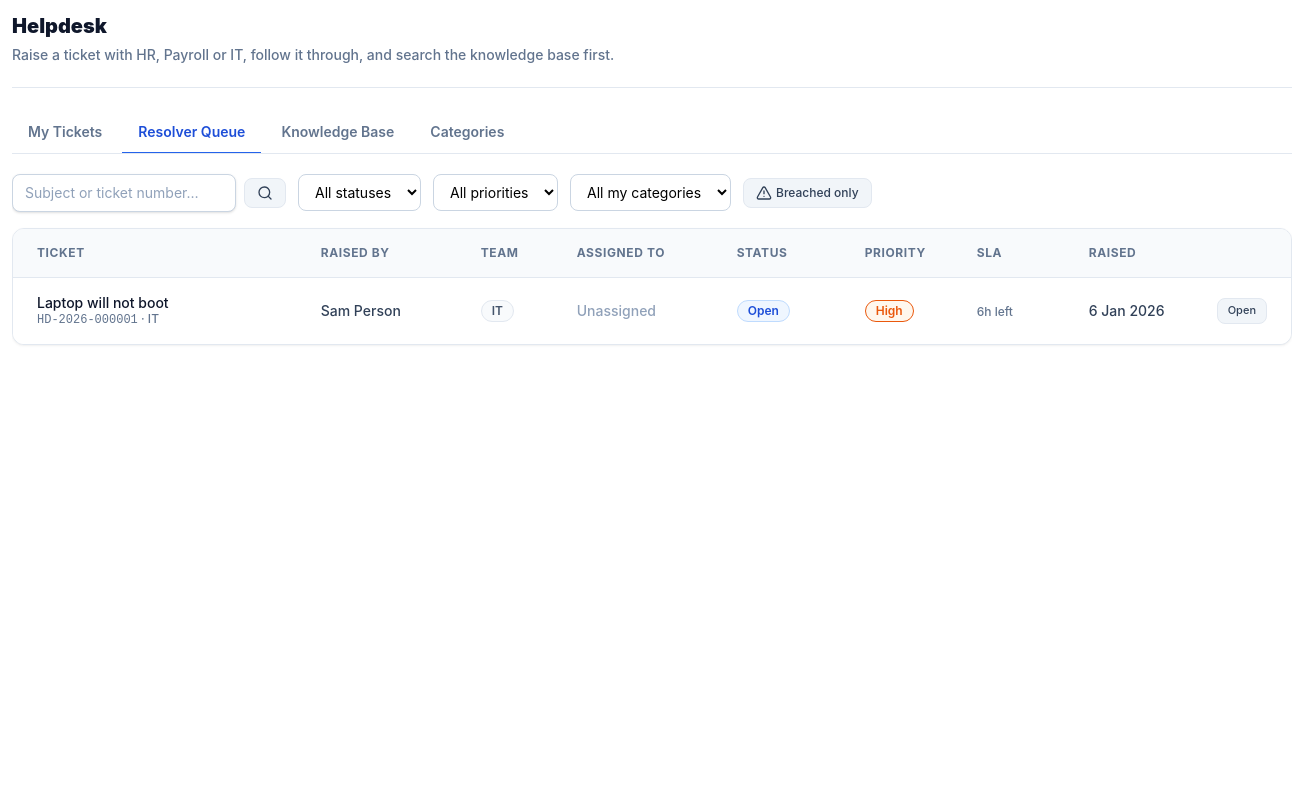
Scenario: the ticket detail › a requester sees no resolver actions
Click the button "Open" at x=1242, y=311, box x1=1217 y1=298 x2=1267 y2=324
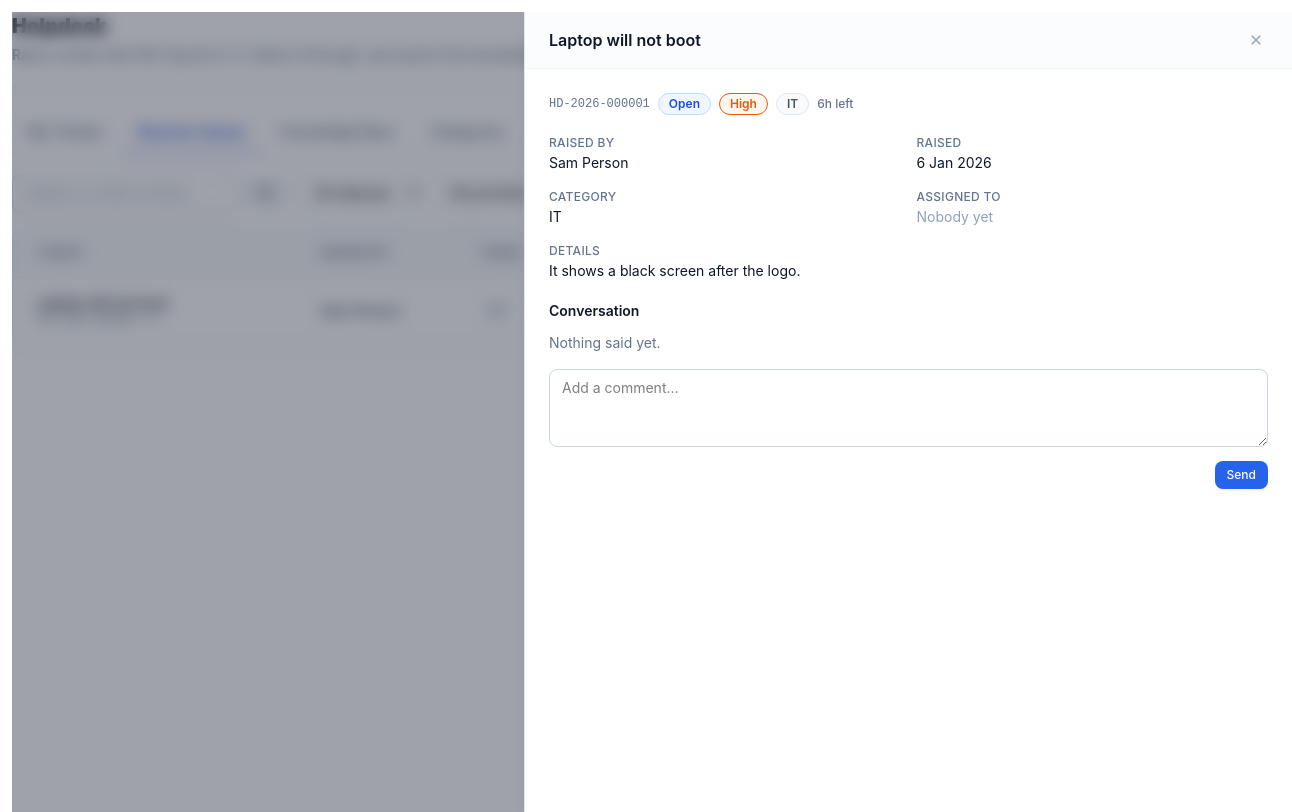
Expected: the text "HD-2026-000001" is shown, x1=549 y1=96 x2=650 y2=112
